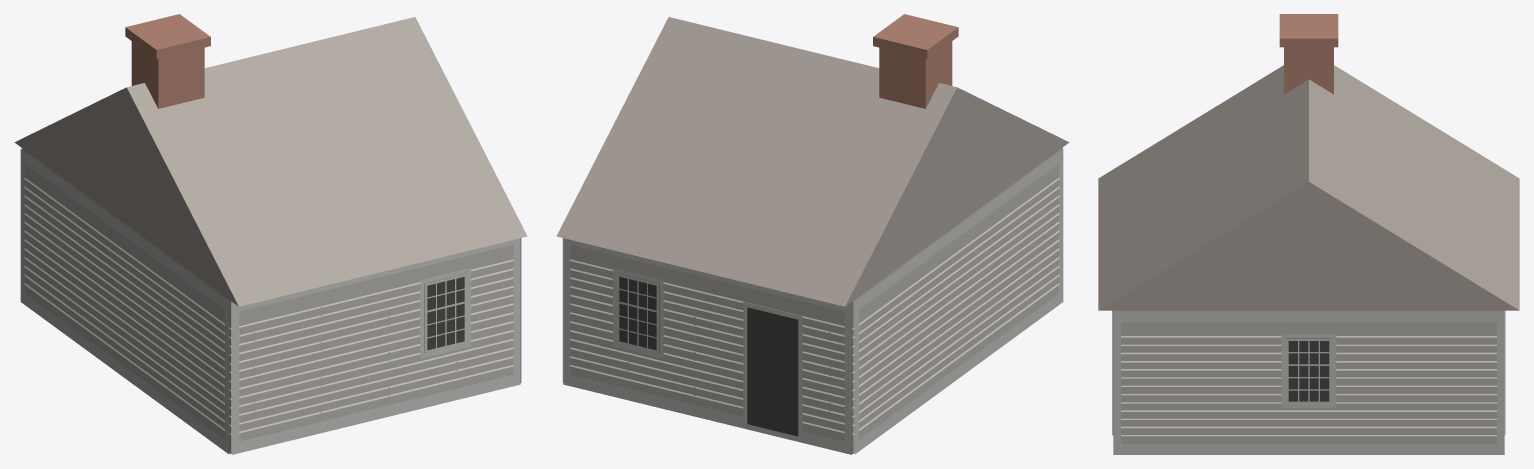
Rendered from recon_1835_blk_school_section_tier_81_d3_05__inferred_1835.glb.
3 views of the same model, side by side, from view 1: azimuth 30°, elevation 25°; view 2: azimuth 150°, elevation 25°; view 3: azimuth 270°, elevation 25° (orthographic). The views are drawn at different scales.
Visible parts, largest first — view 1: recon_1835_blk_school_section_tier_81_d3_05__inferred_1835; view 2: recon_1835_blk_school_section_tier_81_d3_05__inferred_1835; view 3: recon_1835_blk_school_section_tier_81_d3_05__inferred_1835.
Part boxes in pixels (box(x1,y1,x2,y2)): recon_1835_blk_school_section_tier_81_d3_05__inferred_1835: box(14, 14, 527, 454); recon_1835_blk_school_section_tier_81_d3_05__inferred_1835: box(556, 14, 1069, 454); recon_1835_blk_school_section_tier_81_d3_05__inferred_1835: box(1098, 14, 1519, 454).
Size of the model in its own units: 5.31 by 5.8 by 7.04.
